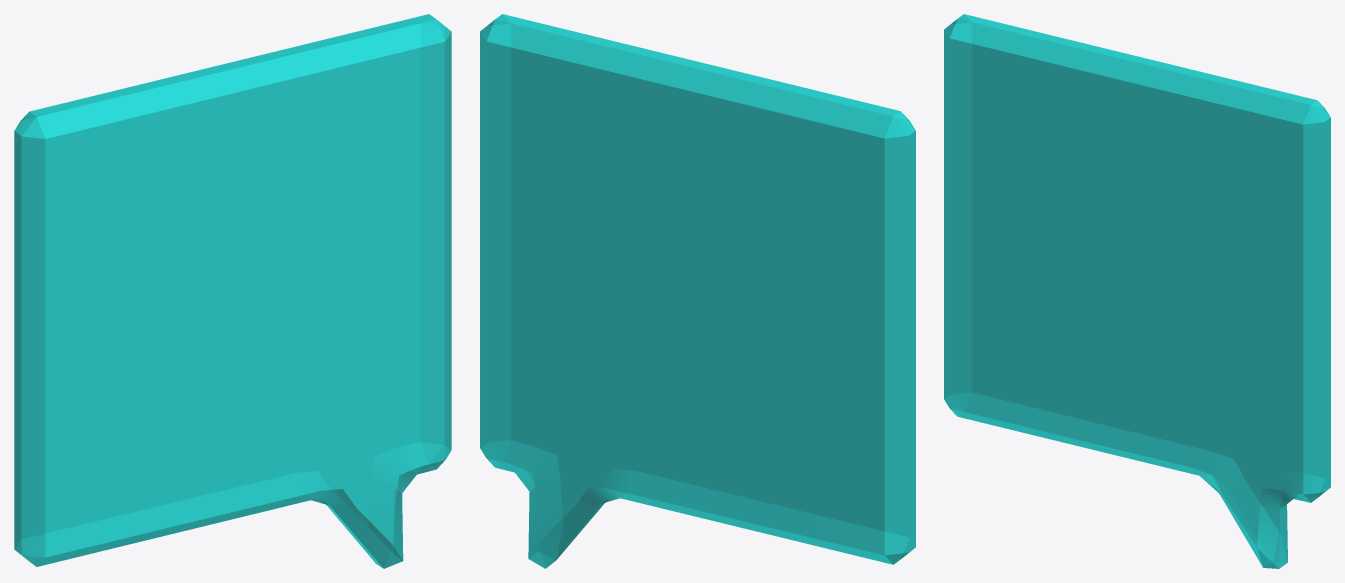
File: SpeechBubble - Whole.fbx
3 views of the same model, side by side, from view 1: azimuth 30°, elevation 25°; view 2: azimuth 150°, elevation 25°; view 3: azimuth 330°, elevation 25° (orthographic). The views are drawn at different scales.
Visible parts, largest first — view 1: Speech_bubble; view 2: Speech_bubble; view 3: Speech_bubble.
Part boxes in pixels (x1,y1,x2,y2): Speech_bubble: (14,14,451,568); Speech_bubble: (480,14,915,568); Speech_bubble: (944,14,1330,568).
Size of the model in its own units: 10 by 11.96 by 1.
